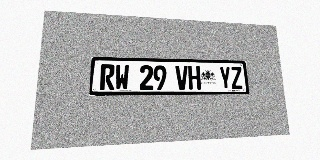2: (140, 65, 153, 90)
9: (153, 65, 167, 90)
H: (188, 66, 201, 90)
R: (100, 64, 115, 90)
V: (175, 66, 188, 90)
W: (115, 64, 129, 90)
Y: (219, 66, 232, 89)
Z: (230, 67, 243, 89)
